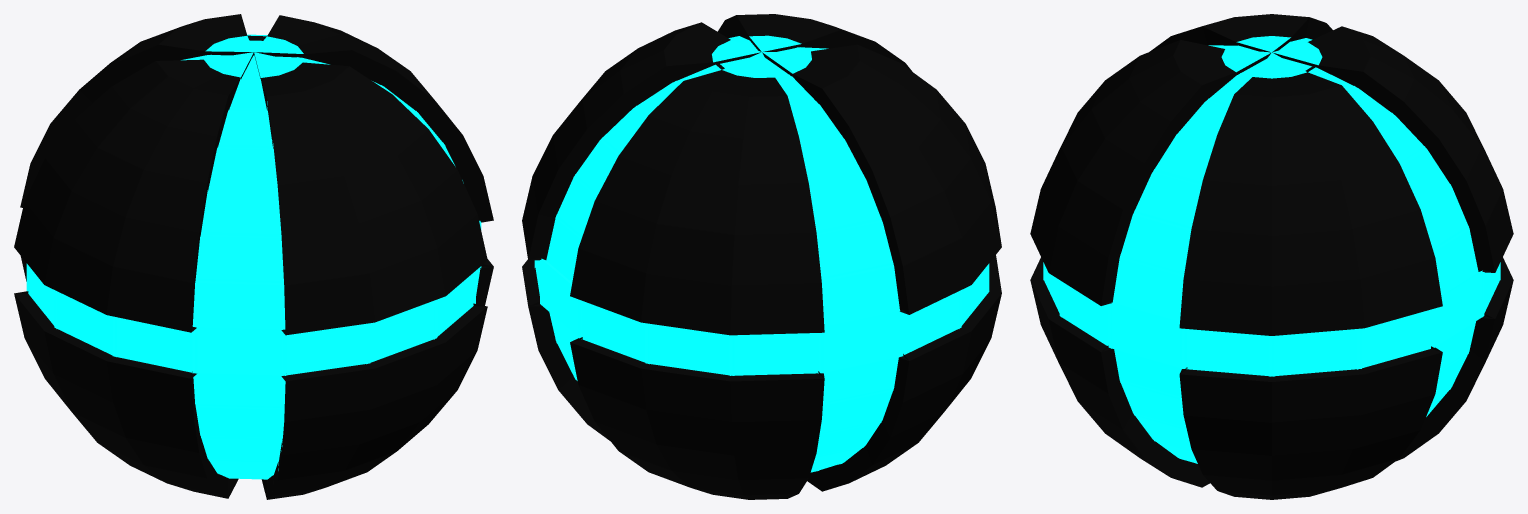
Rendered from Ball.glb.
3 renders of one model, left to right at view 1: azimuth 30°, elevation 25°; view 2: azimuth 150°, elevation 25°; view 3: azimuth 270°, elevation 25°, orthographic.
Visible parts, largest first — view 1: Sphere; view 2: Sphere; view 3: Sphere.
Part boxes in pixels (box(x1,y1,x2,y2)): Sphere: box(14, 14, 493, 499); Sphere: box(522, 14, 1001, 499); Sphere: box(1030, 14, 1513, 499).
Size of the model in its own units: 2.33 by 2.16 by 2.33.
